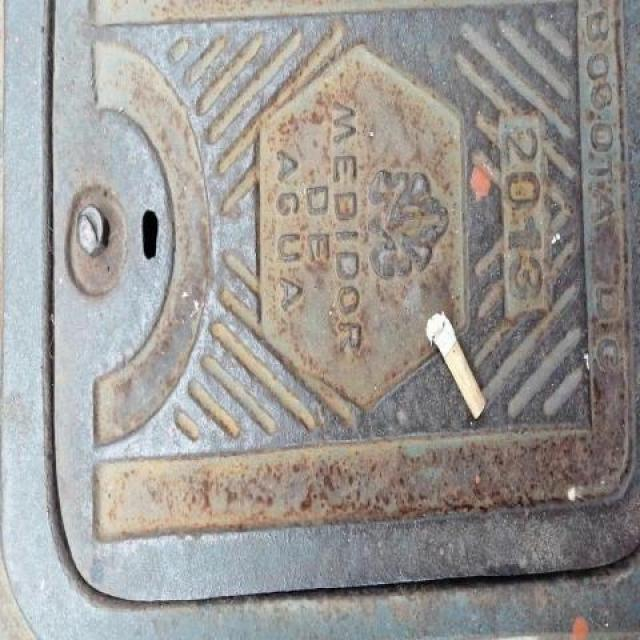non-organic waste: (423, 308, 488, 423)
